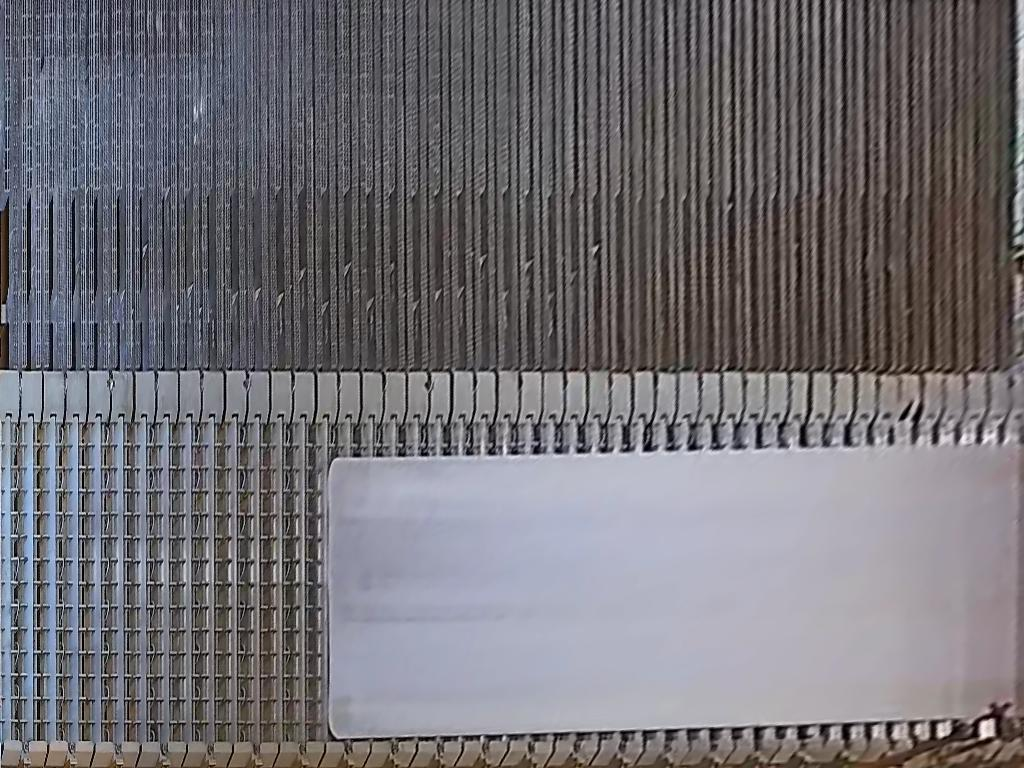steel: (325, 446, 1024, 738)
